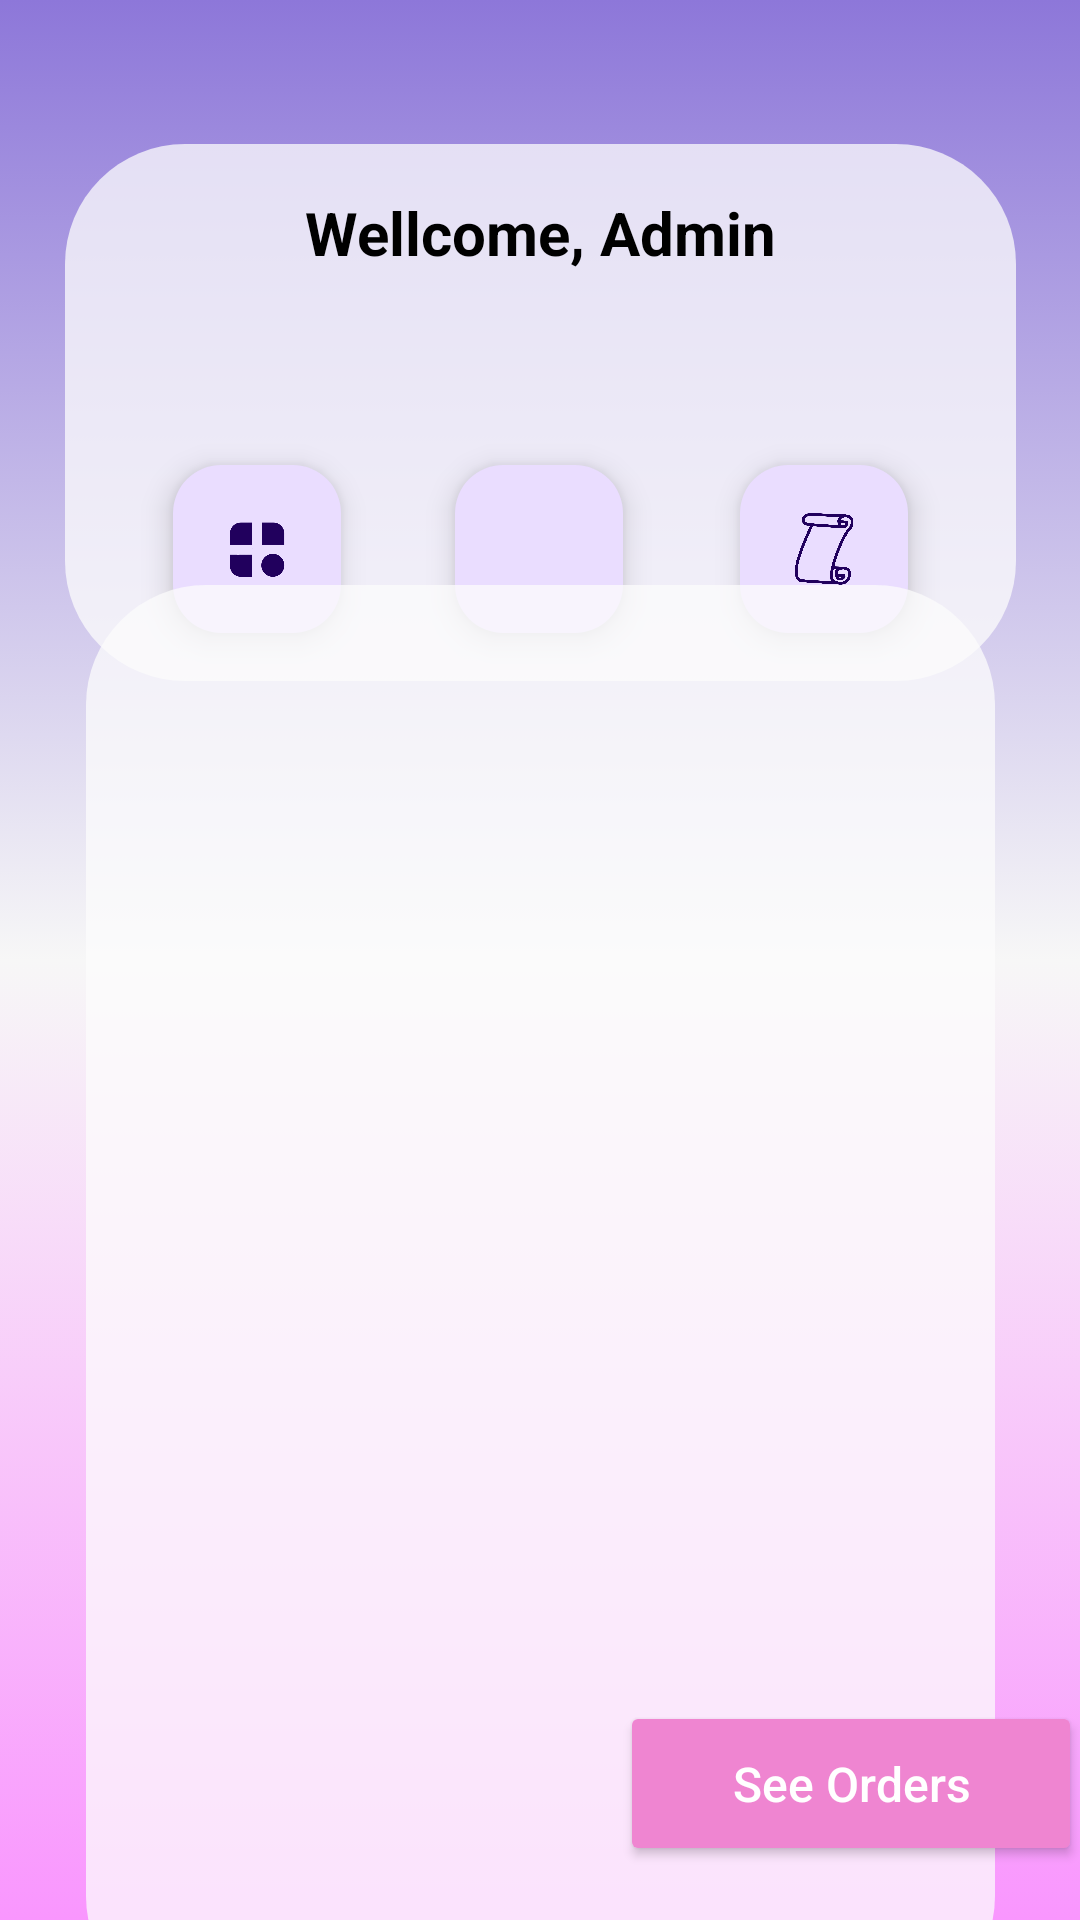

Icons on this 1080x1920 Android screen, each with its box as region(x1, y1, x2, y2):
category: region(173, 465, 341, 590)
order admin: region(740, 465, 908, 590)
